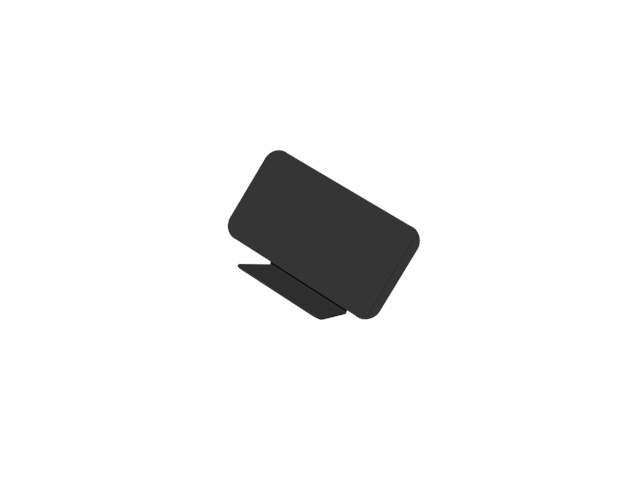monitor: (225, 145, 424, 328)
